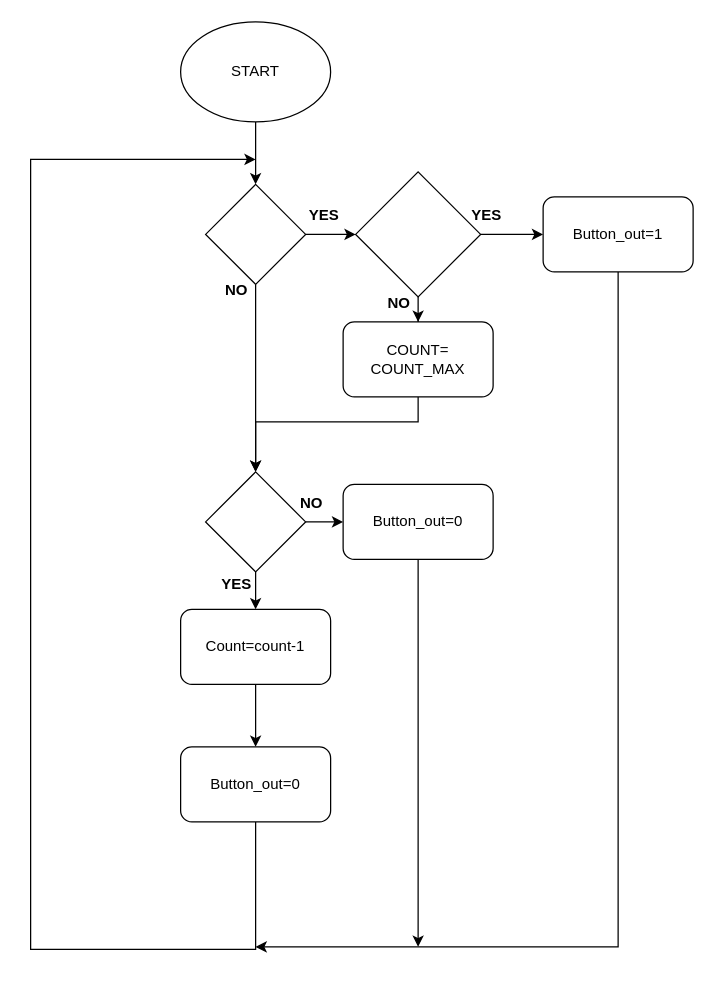
This 715x981 diagram has some shape labels left out. Each missing label, with the centre of its shape:
"COUNT=0" goes at (255,233).
"COUNT>0?" goes at (255,521).
"rising_edge (button_in)?" goes at (417,234).
